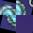mirror: (0, 15, 16, 31), (0, 0, 16, 15), (16, 0, 31, 15)
